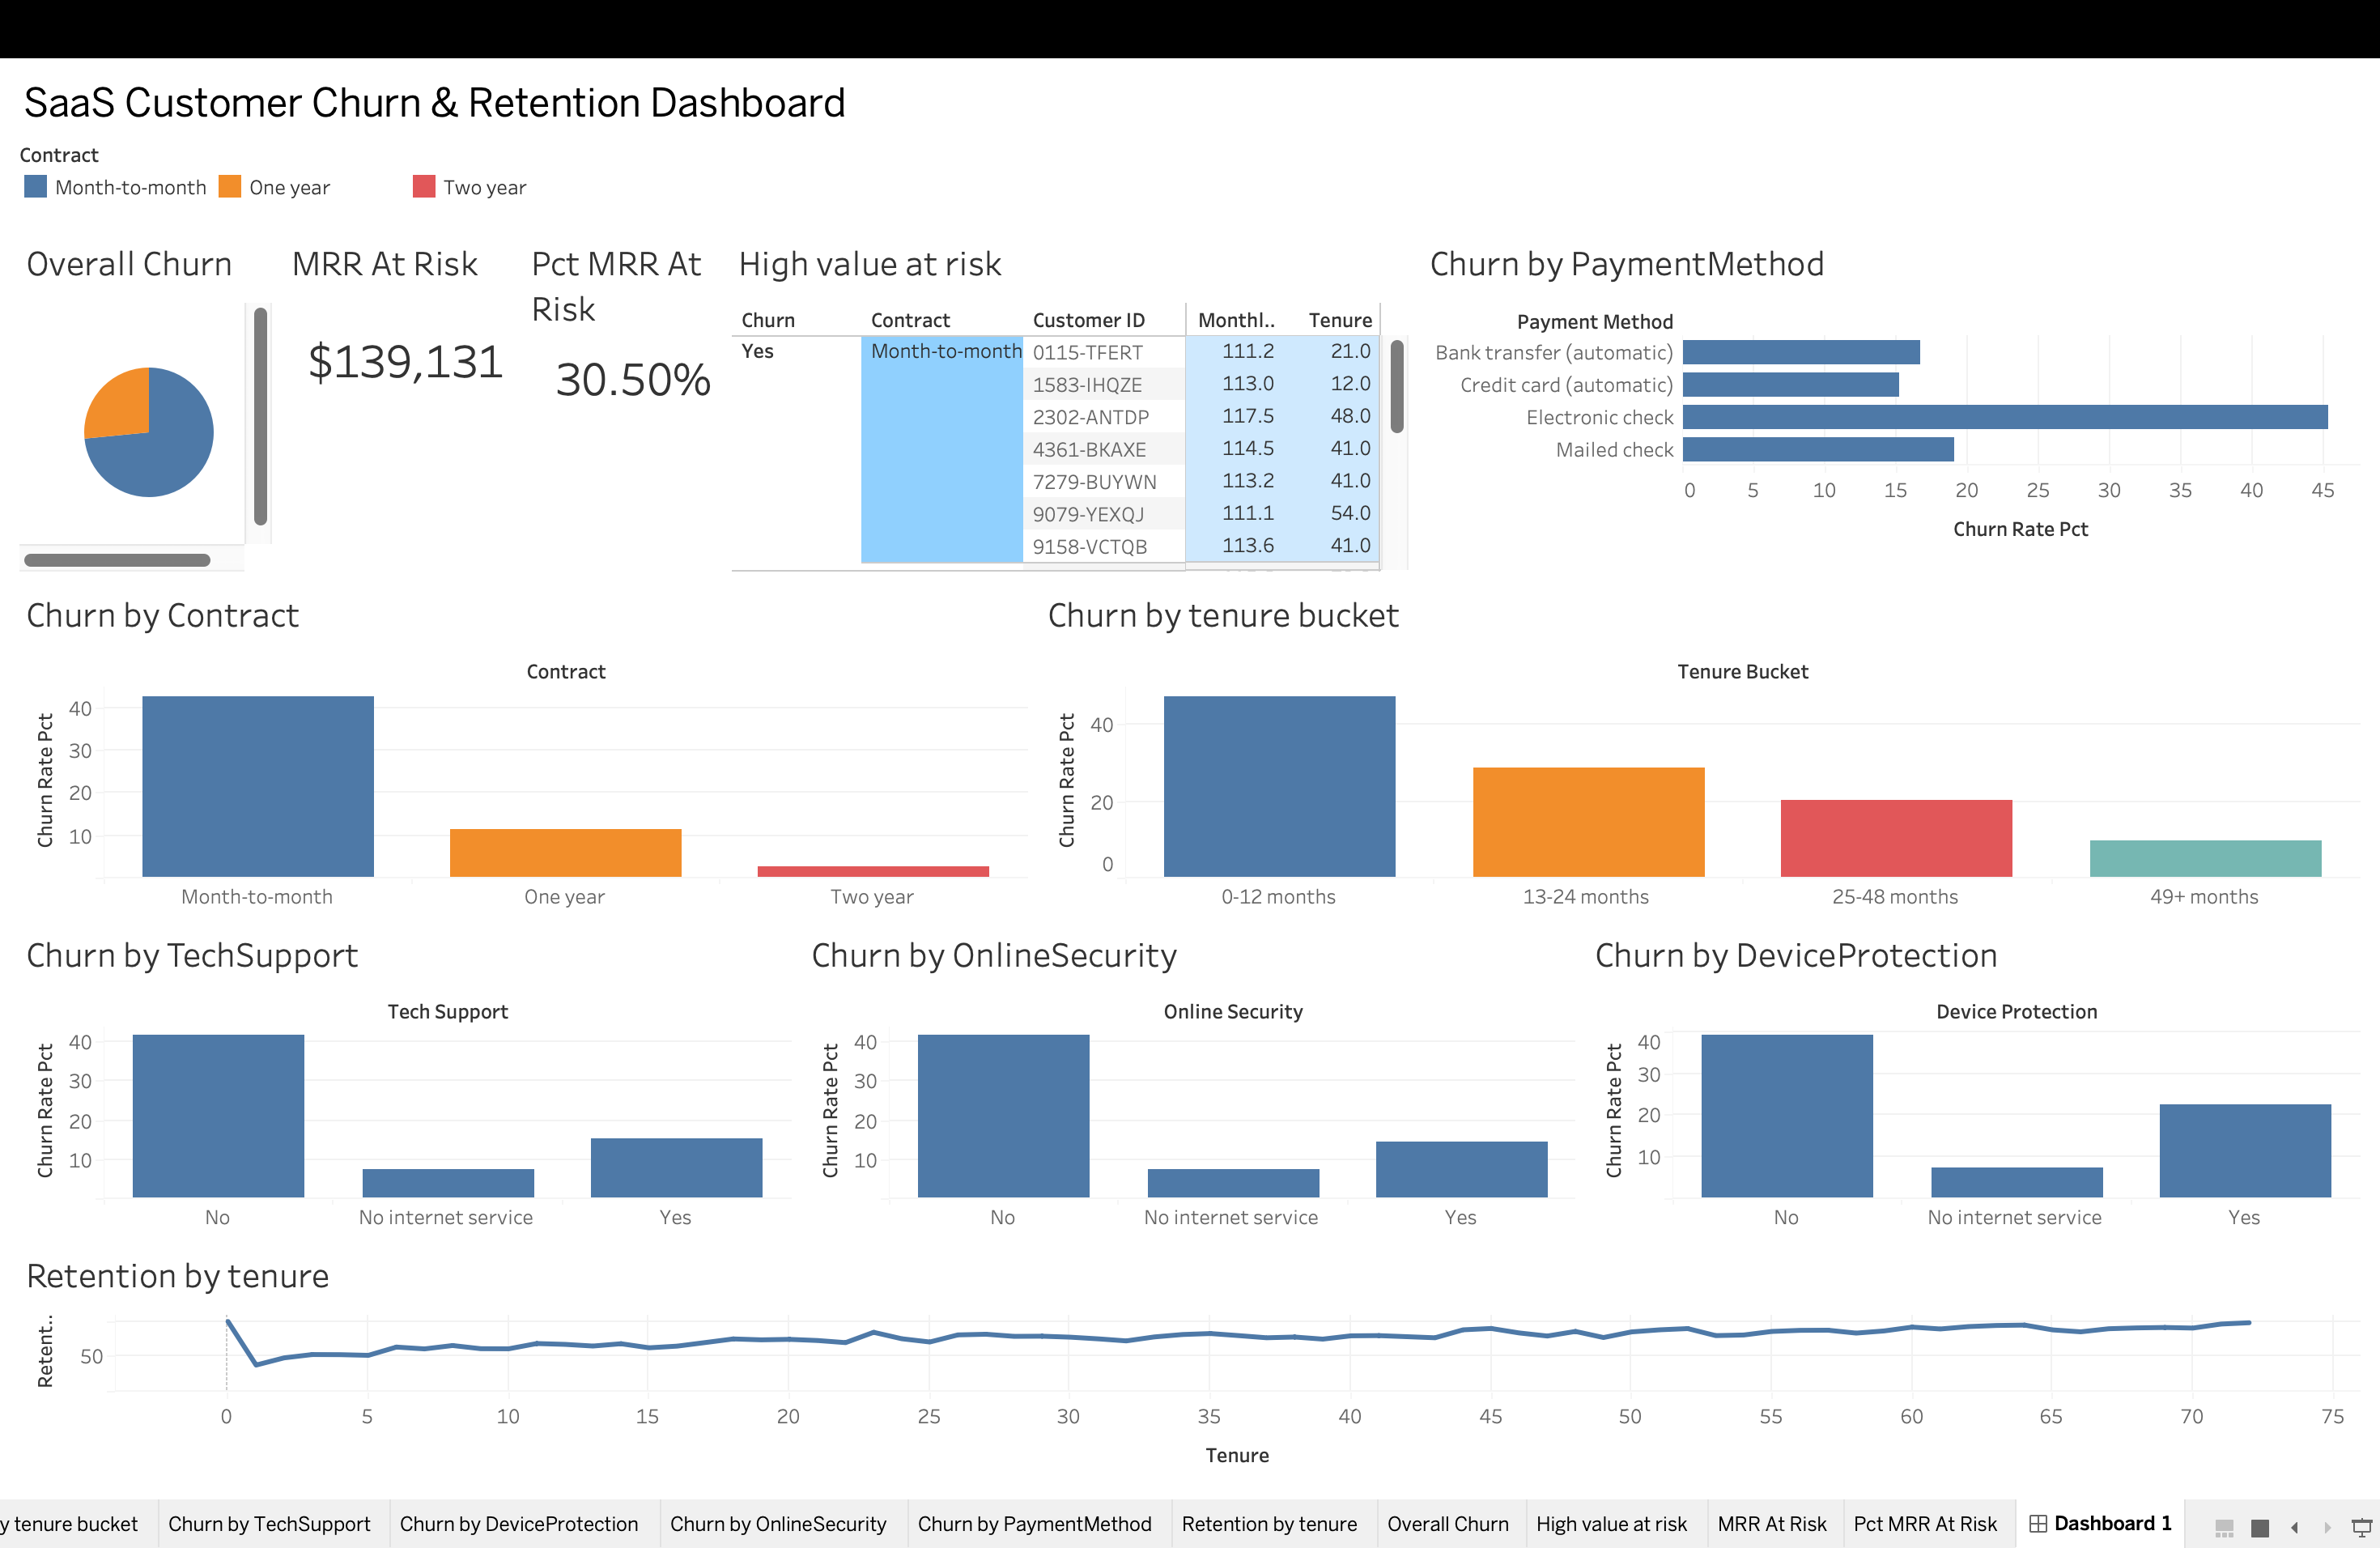

What the dashboard file says about the page in this screenshot:
{"tool":"tableau","page":{"name":"Dashboard 1","canvas":[1000,1000],"units":"permille","ordinal":0},"visuals":[{"type":"title","box":[6.4,9.7,987.3,47.1]},{"type":"legend","title":"Churn by Contract","param":"[federated.1biesmd0p2cmjc1fjq44l19ieokl].[none:Contract:nk]","box":[6.4,56.8,987.3,64]},{"type":"worksheet","title":"Overall Churn","mark":"Pie","box":[6.4,120.8,130.3,242.8]},{"type":"worksheet","title":"MRR At Risk","mark":"Text","box":[136.6,120.8,117.5,242.8]},{"type":"worksheet","title":"Pct MRR At Risk","mark":"Text","box":[254.2,120.8,101.7,242.8]},{"type":"worksheet","title":"High value at risk","mark":"Automatic","rows":["Churn","Contract","customerID"],"box":[355.8,120.8,339.2,242.8]},{"type":"worksheet","title":"Churn by PaymentMethod","mark":"Automatic","rows":["PaymentMethod"],"cols":["churn_rate_pct"],"box":[695,120.8,298.7,242.8]},{"type":"worksheet","title":"Churn by Contract","mark":"Automatic","rows":["churn_rate_pct"],"cols":["Contract"],"box":[6.4,363.5,429,234.3]},{"type":"worksheet","title":"Churn by tenure bucket","mark":"Automatic","rows":["churn_rate_pct"],"cols":["tenure_bucket"],"box":[435.4,363.5,558.3,234.3]},{"type":"worksheet","title":"Churn by TechSupport","mark":"Automatic","rows":["churn_rate_pct"],"cols":["TechSupport"],"box":[6.4,597.8,329.1,221.2]},{"type":"worksheet","title":"Churn by OnlineSecurity","mark":"Automatic","rows":["churn_rate_pct"],"cols":["OnlineSecurity"],"box":[335.4,597.8,329.1,221.2]},{"type":"worksheet","title":"Churn by DeviceProtection","mark":"Automatic","rows":["churn_rate_pct"],"cols":["DeviceProtection"],"box":[664.5,597.8,329.1,221.2]},{"type":"worksheet","title":"Retention by tenure","mark":"Automatic","rows":["retention_rate_pct"],"cols":["tenure"],"box":[6.4,819,987.3,171.3]}]}

Visuals, with their boxes on the dashboard's canvas, which has no fixed pixel size, in thousandths of its width and height (x1, y1, x2, y2). These are canvas units, not pixel positions in the 2380x1548 screenshot, which may show the page scaled, cropped or inside an application window:
title: [left=6, top=10, right=994, bottom=57]
"Churn by Contract" legend: [left=6, top=57, right=994, bottom=121]
"Overall Churn" worksheet (Pie marks): [left=6, top=121, right=137, bottom=364]
"MRR At Risk" worksheet (Text marks): [left=137, top=121, right=254, bottom=364]
"Pct MRR At Risk" worksheet (Text marks): [left=254, top=121, right=356, bottom=364]
"High value at risk" worksheet: [left=356, top=121, right=695, bottom=364]
"Churn by PaymentMethod" worksheet: [left=695, top=121, right=994, bottom=364]
"Churn by Contract" worksheet: [left=6, top=364, right=435, bottom=598]
"Churn by tenure bucket" worksheet: [left=435, top=364, right=994, bottom=598]
"Churn by TechSupport" worksheet: [left=6, top=598, right=336, bottom=819]
"Churn by OnlineSecurity" worksheet: [left=335, top=598, right=664, bottom=819]
"Churn by DeviceProtection" worksheet: [left=664, top=598, right=994, bottom=819]
"Retention by tenure" worksheet: [left=6, top=819, right=994, bottom=990]
